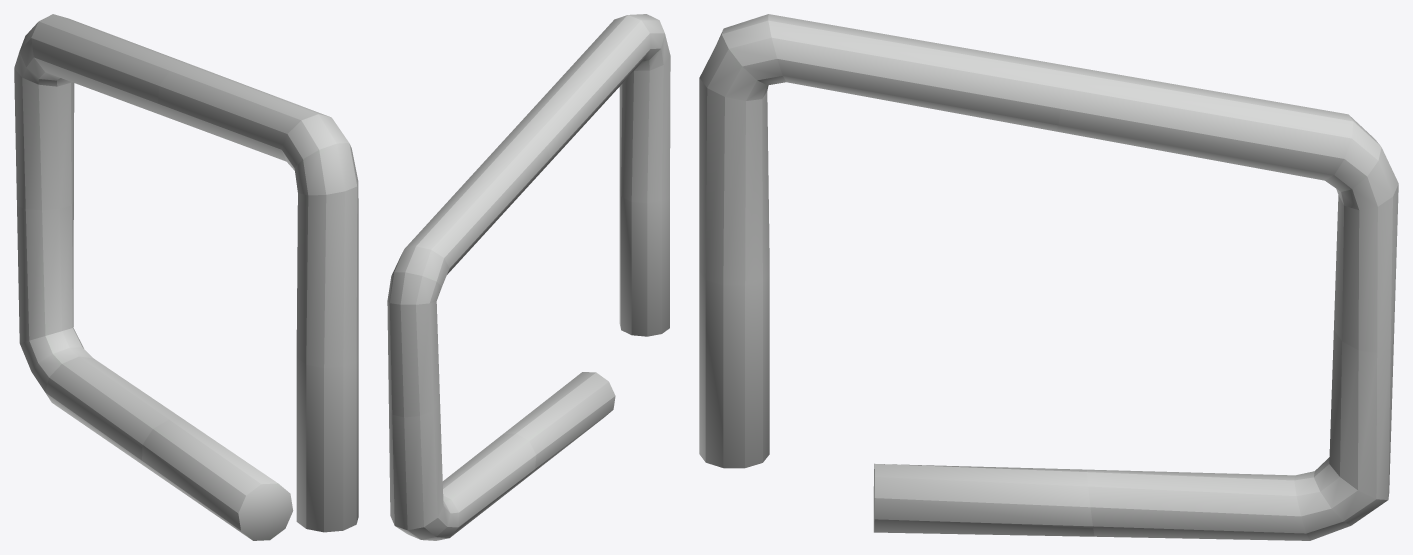
File: Railing.fbx
The picture shows the model from 3 angles, left to right: view 1: azimuth 30°, elevation 25°; view 2: azimuth 150°, elevation 25°; view 3: azimuth 270°, elevation 25°; orthographic projection. The views are drawn at different scales.
Visible parts, largest first — view 1: Railing; view 2: Railing; view 3: Railing.
Part boxes in pixels (x1,y1,x2,y2): Railing: [14, 14, 358, 540]; Railing: [387, 14, 670, 540]; Railing: [699, 14, 1398, 540].
Size of the model in its own units: 39.71 by 321 by 391.
